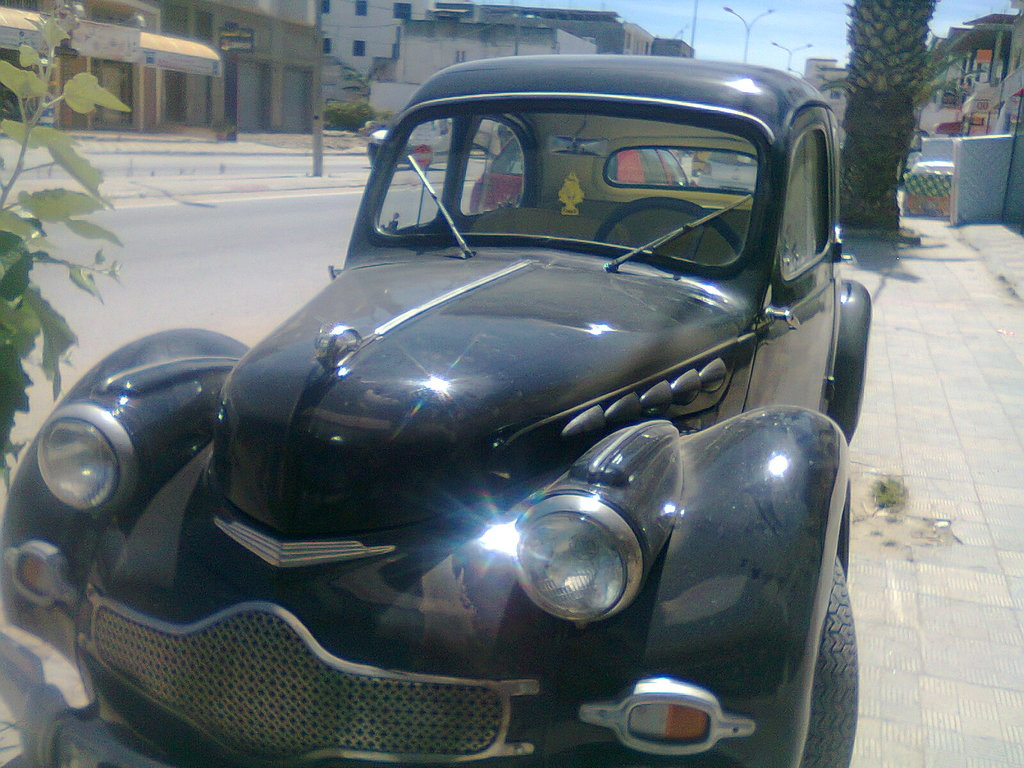Car: (0, 49, 873, 767), (467, 136, 699, 216), (367, 117, 454, 166), (689, 150, 760, 195)
